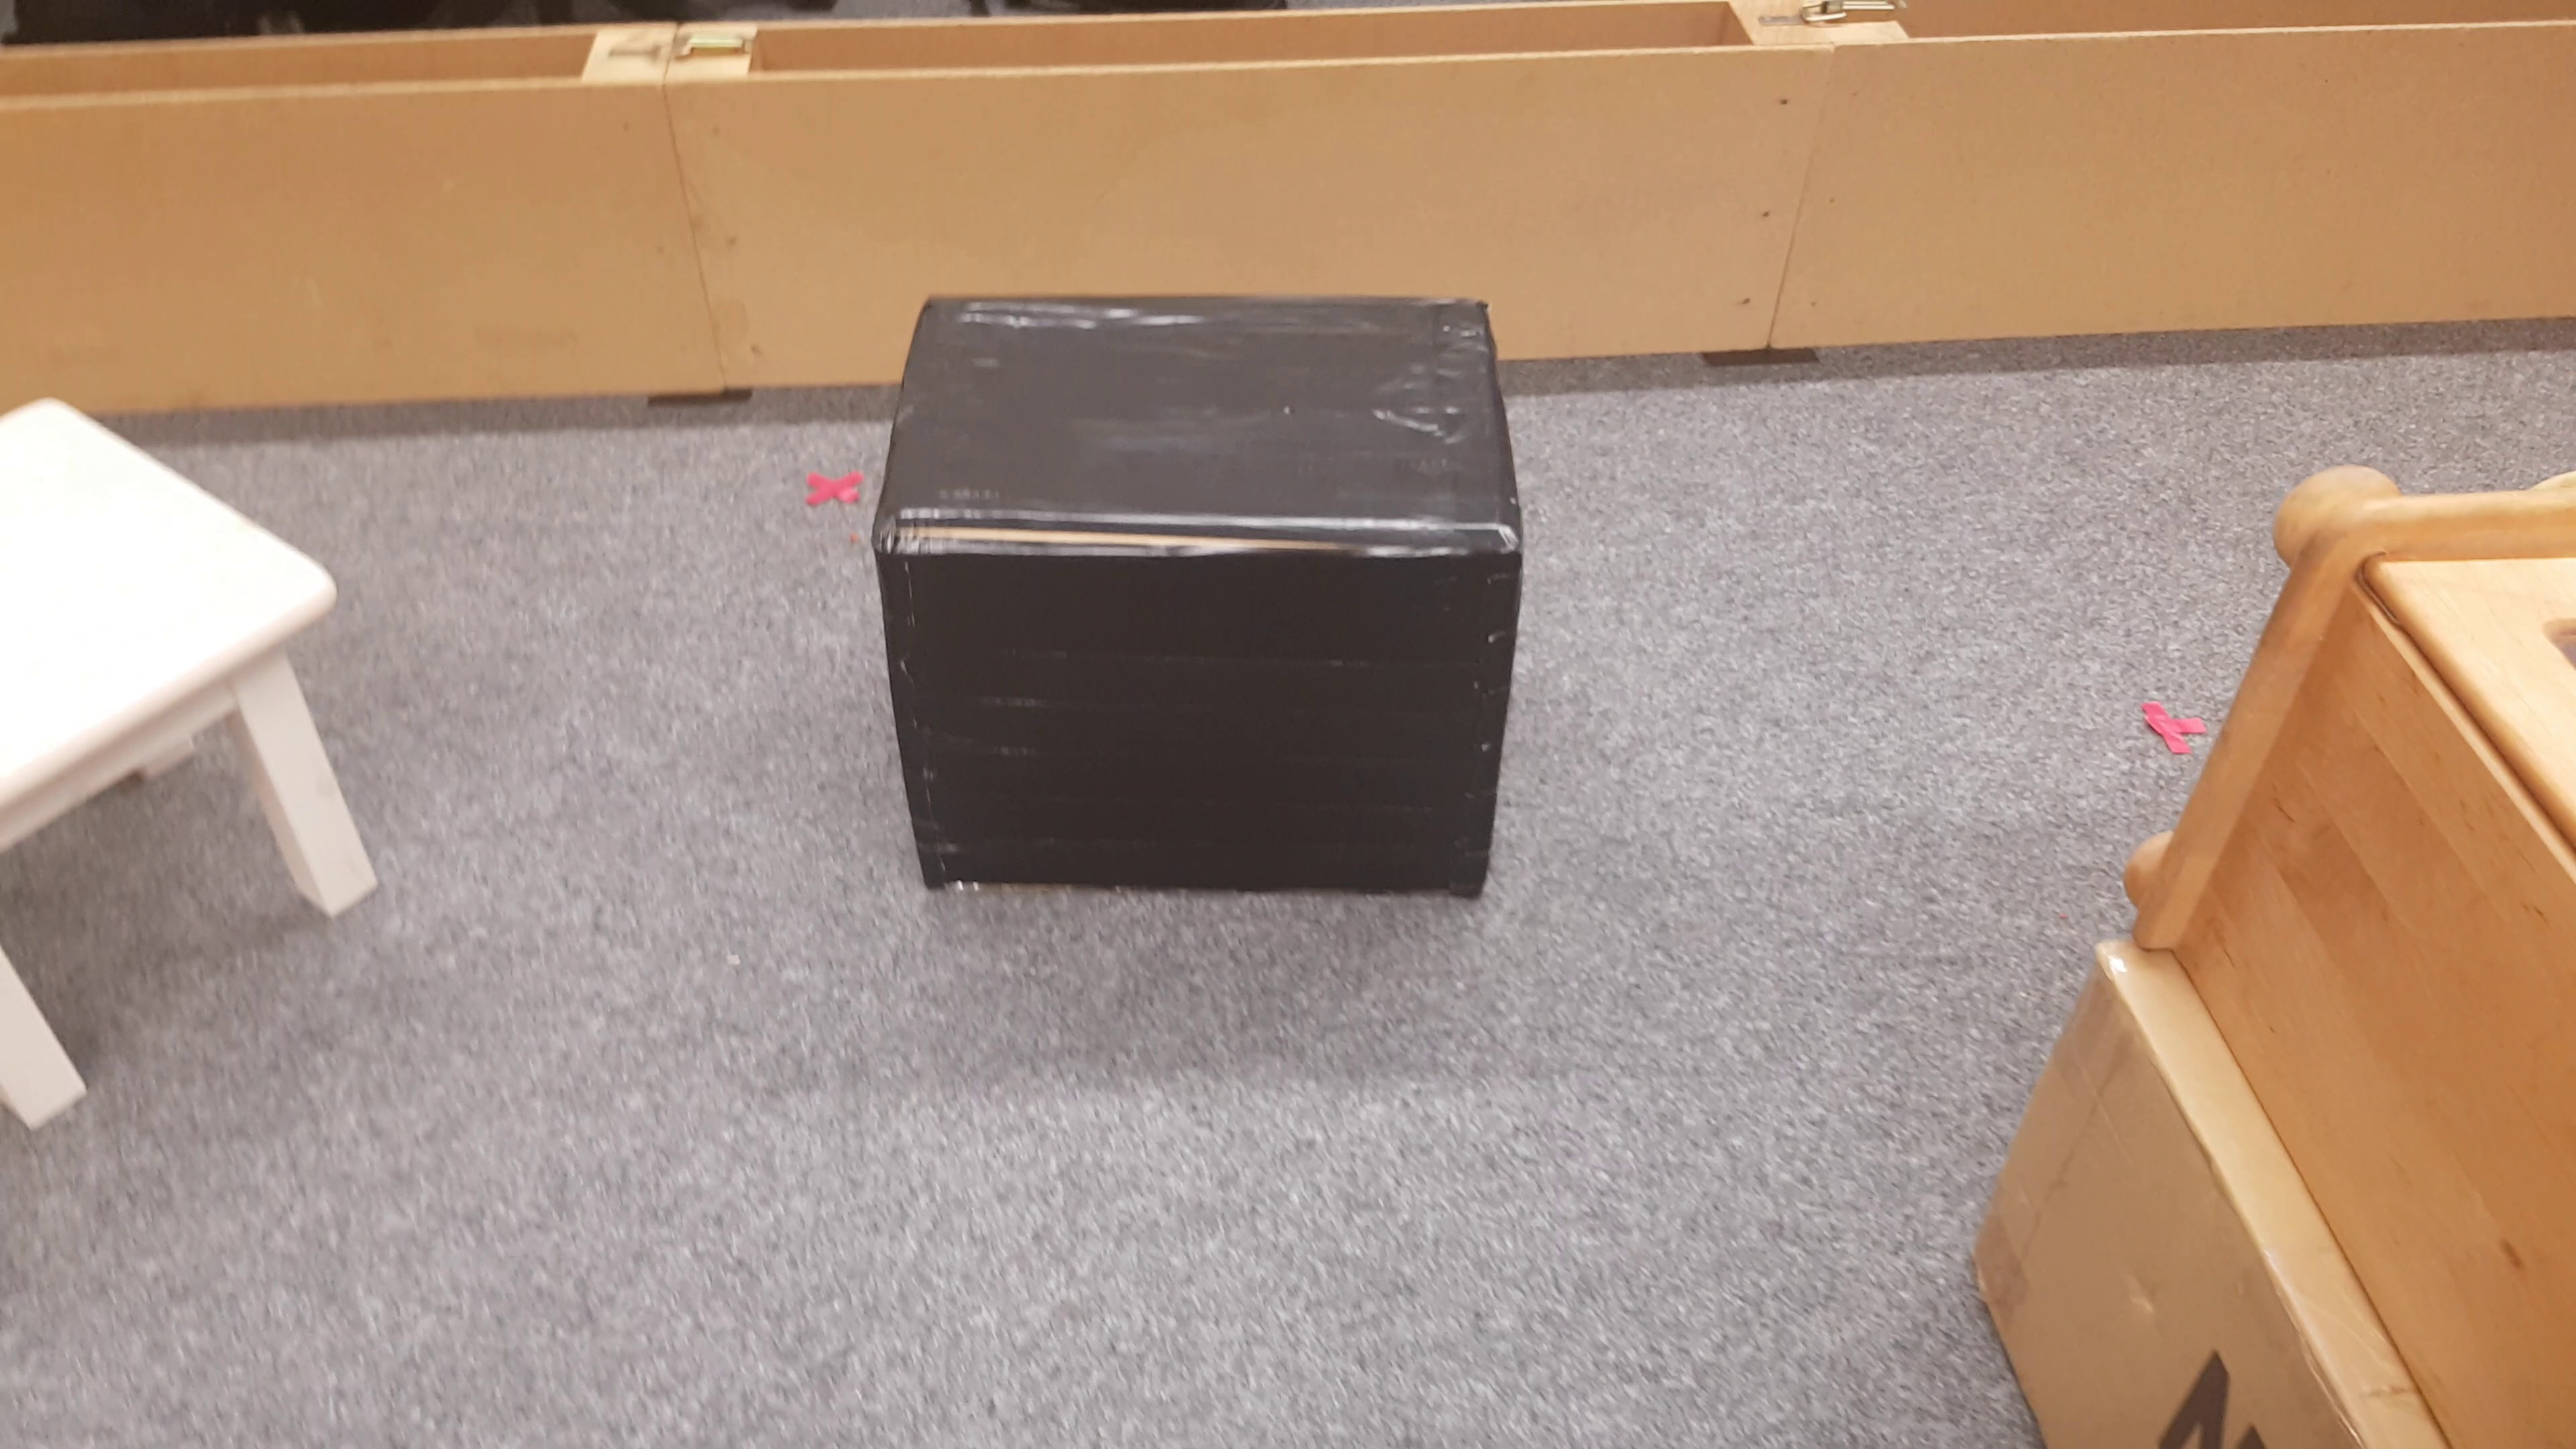push: (876, 287, 1520, 920)
